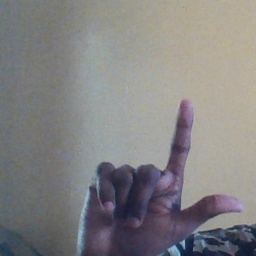L: (71, 98, 246, 256)
